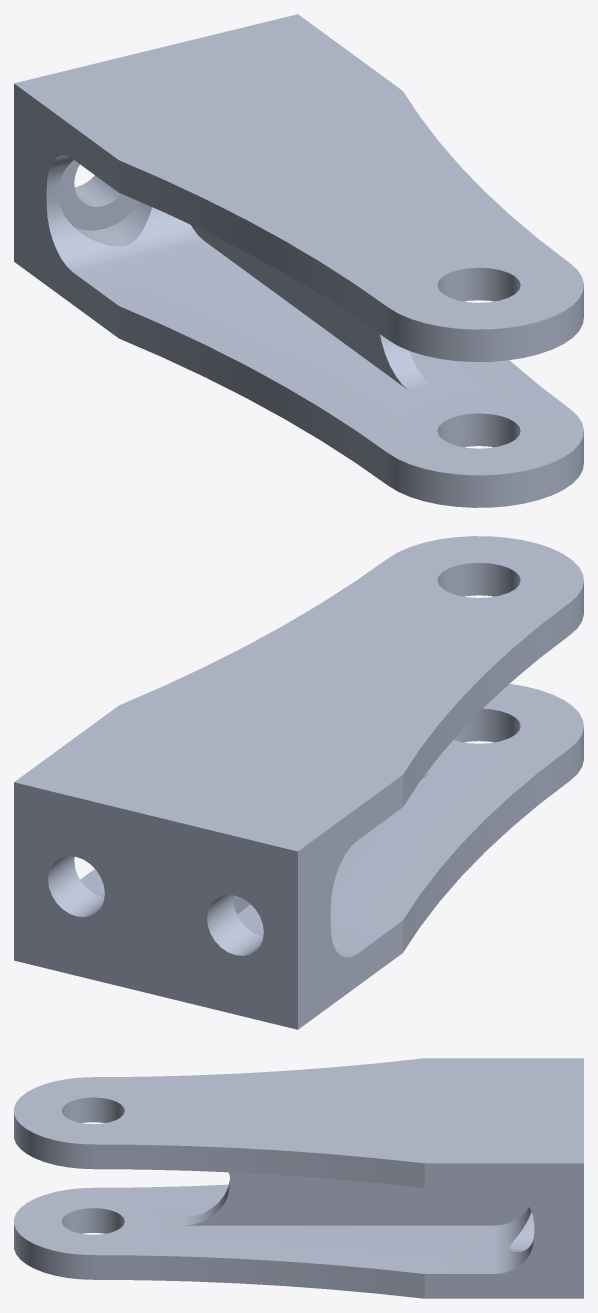
File: Front_Right_Corner_Wheel_Assembly__UA_26_Front_Right_Tie_Rod_Tab_1.dae
3 views of the same model, one above another, from view 1: azimuth 30°, elevation 25°; view 2: azimuth 150°, elevation 25°; view 3: azimuth 270°, elevation 25° (orthographic). The views are drawn at different scales.
Parts seen in each view (by area): view 1: node0; view 2: node0; view 3: node0.
Part boxes in pixels (x1=…): node0: x1=14, y1=14, x2=583, y2=507; node0: x1=14, y1=536, x2=583, y2=1029; node0: x1=14, y1=1058, x2=583, y2=1298.
Bounding box in the file's own units: 0.025 × 0.015 × 0.0572.
